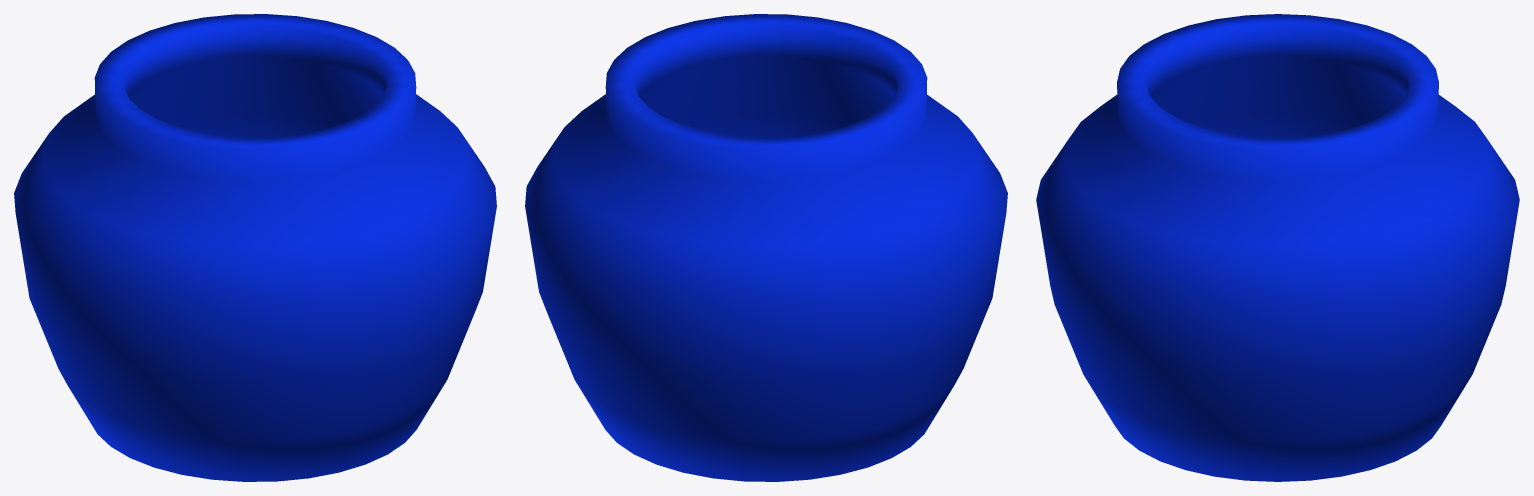
The model's file is fishbowl.fbx.
The picture shows the model from 3 angles, left to right: view 1: azimuth 30°, elevation 25°; view 2: azimuth 150°, elevation 25°; view 3: azimuth 270°, elevation 25°; orthographic projection.
Visible parts, largest first — view 1: Cylinder; view 2: Cylinder; view 3: Cylinder.
Boxes of the visible parts, x1,y1,x2,y2 form: Cylinder: [14, 14, 496, 481]; Cylinder: [525, 14, 1007, 481]; Cylinder: [1036, 14, 1519, 481].
Size of the model in its own units: 247 by 185 by 247.
